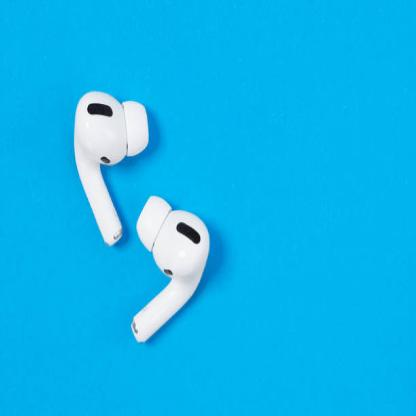Airpods: (67, 82, 150, 246), (132, 191, 210, 350)
